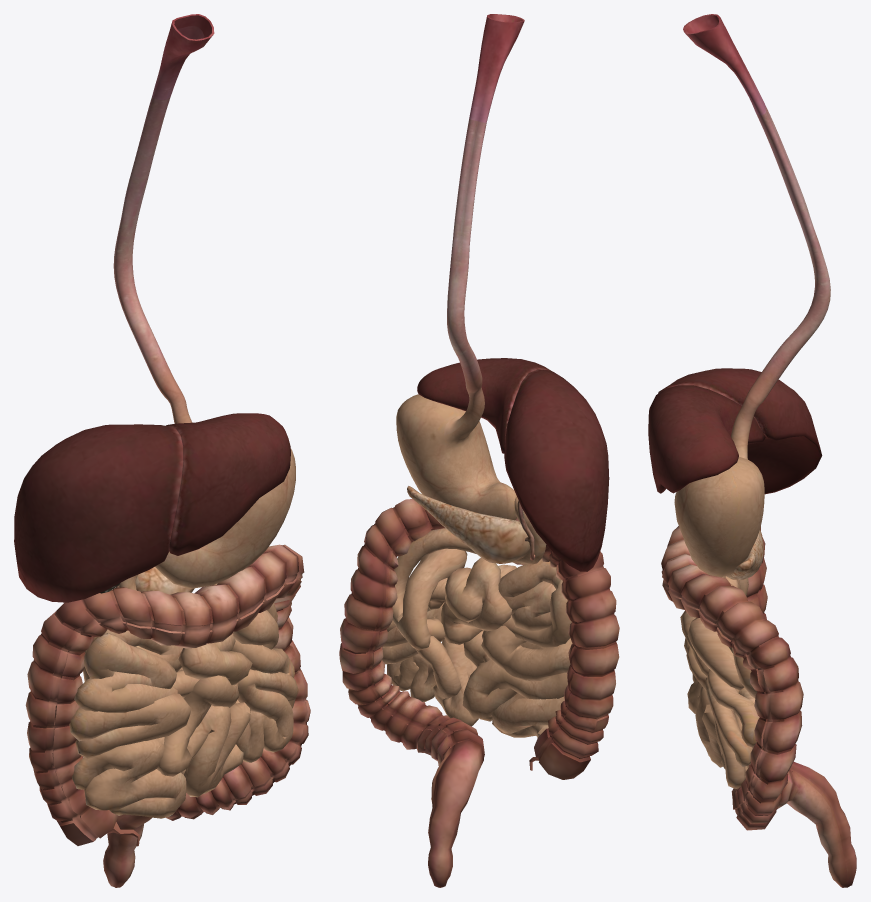
The picture shows the model from 3 angles, left to right: view 1: azimuth 30°, elevation 25°; view 2: azimuth 150°, elevation 25°; view 3: azimuth 270°, elevation 25°; orthographic projection. The views are drawn at different scales.
Visible parts, largest first — view 1: DigestiveSystem001_Digestive_System_0; view 2: DigestiveSystem001_Digestive_System_0; view 3: DigestiveSystem001_Digestive_System_0.
Boxes of the visible parts, box(x1,y1,x2,y2) form: DigestiveSystem001_Digestive_System_0: box(14, 14, 310, 887); DigestiveSystem001_Digestive_System_0: box(339, 14, 619, 887); DigestiveSystem001_Digestive_System_0: box(648, 14, 856, 887).
Bounding box in the file's own units: 22.71 × 67.72 × 14.76.
1 material, 1 textured.
